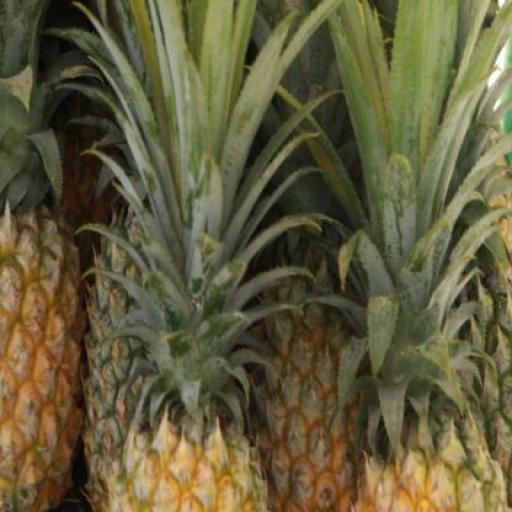------------------------------: (0, 211, 74, 511)
